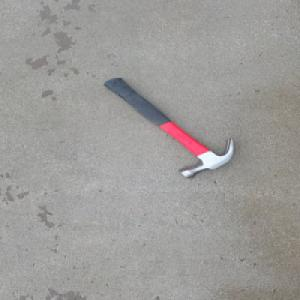Hammer: (102, 76, 237, 179)
